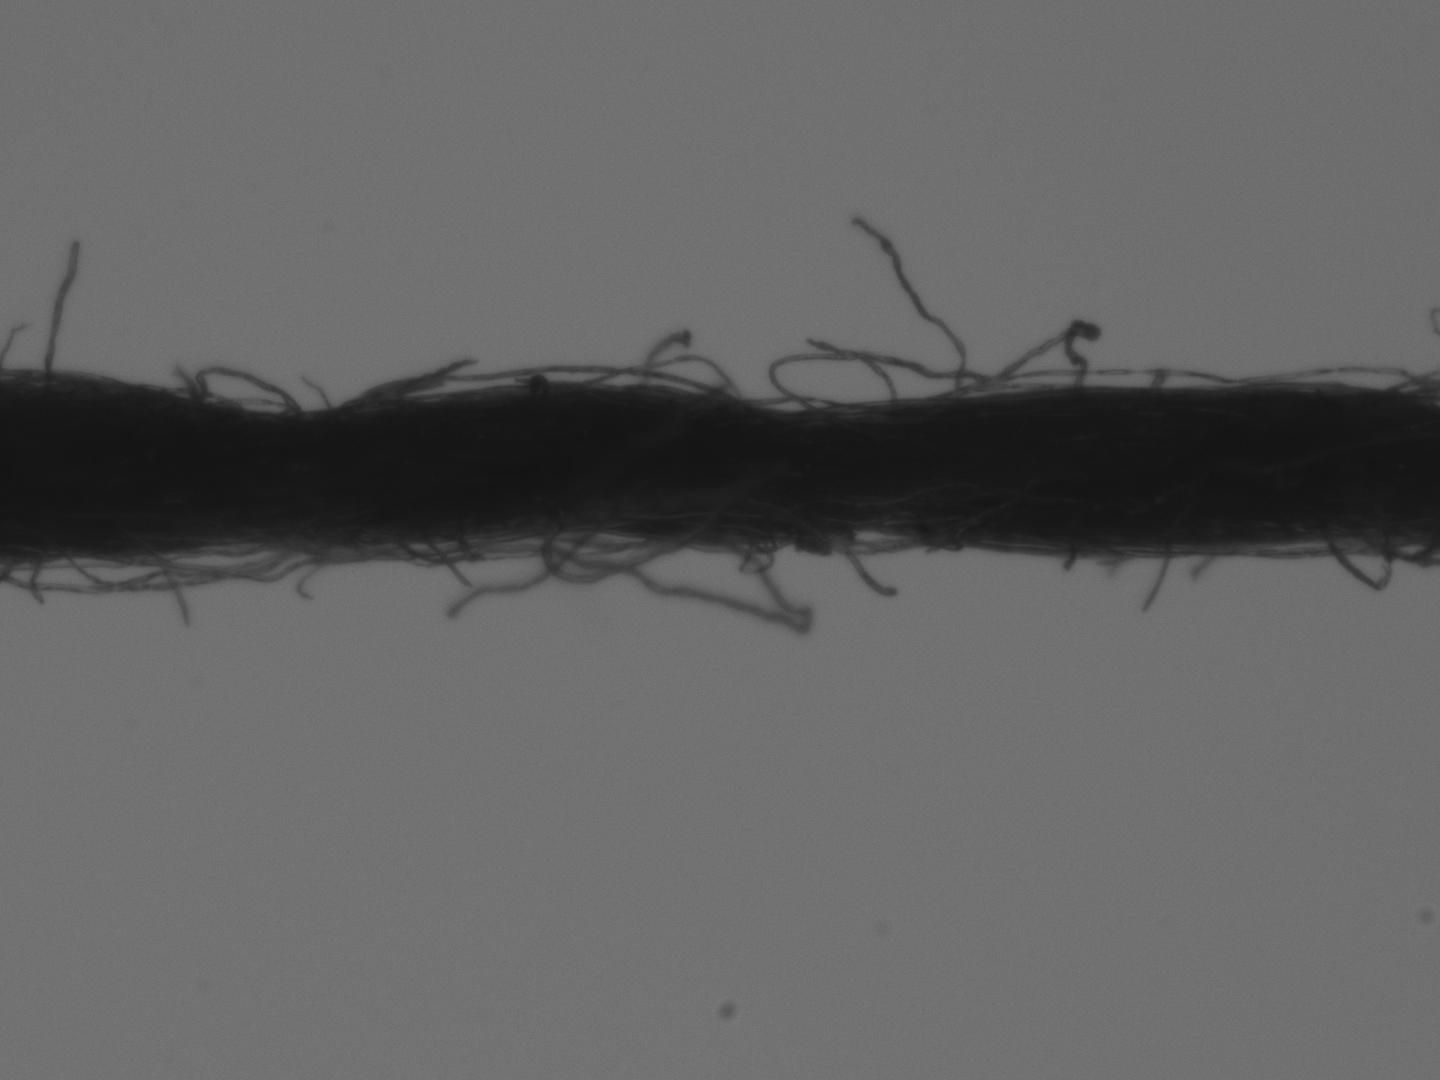loop_fiber: (540, 520, 723, 587), (112, 533, 307, 568), (594, 355, 739, 402), (391, 530, 536, 566), (193, 365, 296, 415), (62, 549, 185, 591), (1323, 535, 1400, 594), (717, 530, 797, 575), (185, 537, 285, 558), (742, 391, 844, 412)
protruding_fiber: (41, 238, 82, 374)
